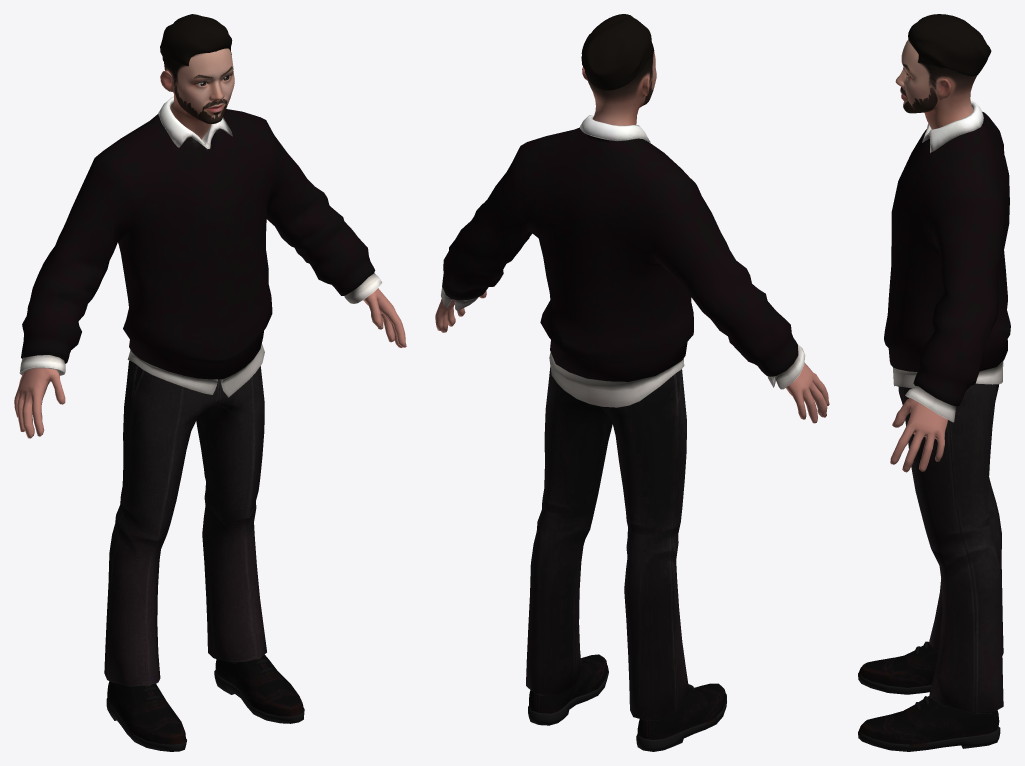
The model's file is Main NPC.fbx.
3 views of the same model, side by side, from view 1: azimuth 30°, elevation 25°; view 2: azimuth 150°, elevation 25°; view 3: azimuth 270°, elevation 25° (orthographic).
Visible parts, largest first — view 1: EyeLeft.001; view 2: EyeLeft.001; view 3: EyeLeft.001.
Part boxes in pixels (x1=…): EyeLeft.001: x1=14, y1=14, x2=406, y2=751; EyeLeft.001: x1=435, y1=14, x2=829, y2=751; EyeLeft.001: x1=858, y1=14, x2=1010, y2=751.
Size of the model in its own units: 106 by 186 by 36.97.
Materials: 8 (8 with a texture image).
